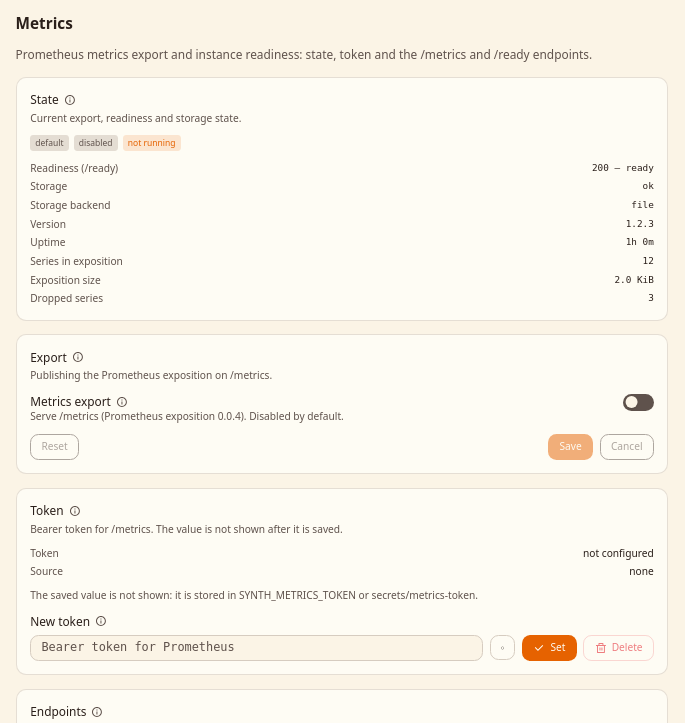
Test: ObservabilitySettings — статус и настройки › пустой токен не отправляется
Click the button "Set".
click(550, 648)  # box [522,635,577,661]
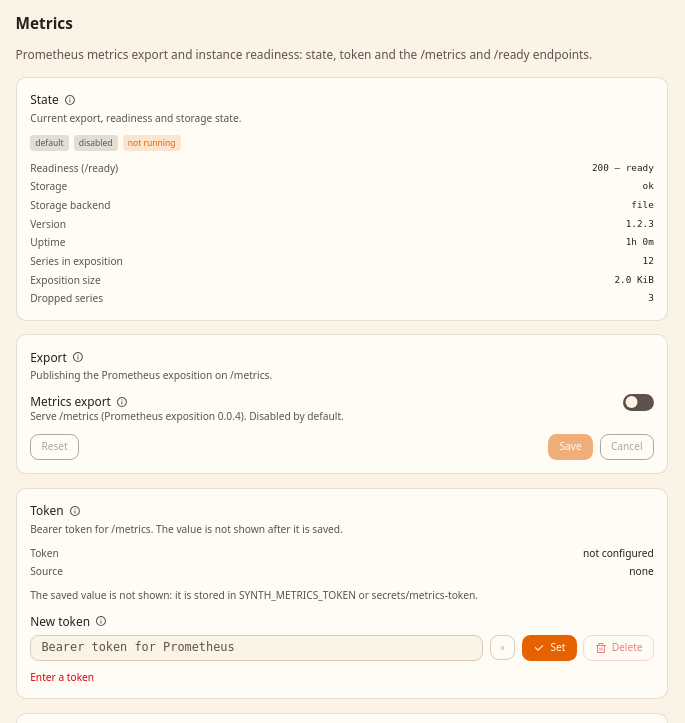
Now the message "Enter a token" is shown, box [30,670,94,684]
